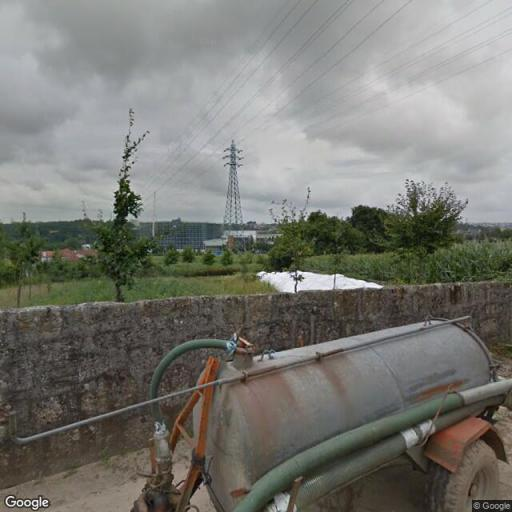ss_3: (222, 140, 246, 242)
